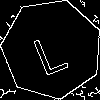L: (27, 24, 71, 77)
